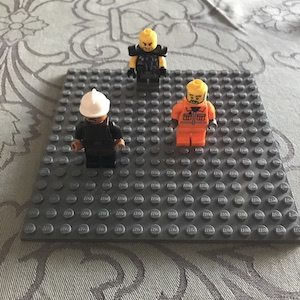Lego: (71, 89, 126, 169), (170, 79, 215, 147), (128, 28, 167, 93)
